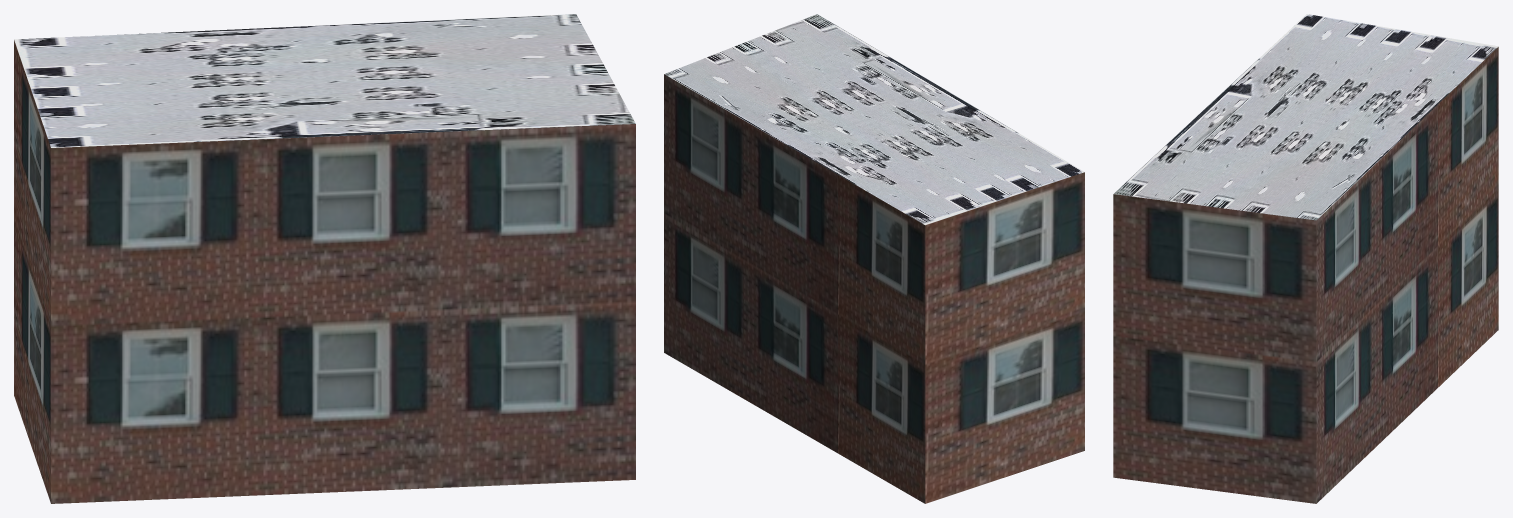
File: ResTex__2562.fbx
3 renders of one model, left to right at view 1: azimuth 30°, elevation 25°; view 2: azimuth 150°, elevation 25°; view 3: azimuth 270°, elevation 25°, orthographic. The views are drawn at different scales.
Visible parts, largest first — view 1: CityEngineMaterial_14_m, CityEngineMaterial_m; view 2: CityEngineMaterial_14_m, CityEngineMaterial_m; view 3: CityEngineMaterial_14_m, CityEngineMaterial_m.
Part boxes in pixels (bbox=[...]): CityEngineMaterial_14_m: bbox=[14, 40, 635, 503]; CityEngineMaterial_m: bbox=[14, 14, 635, 147]; CityEngineMaterial_14_m: bbox=[664, 74, 1084, 503]; CityEngineMaterial_m: bbox=[664, 14, 1084, 225]; CityEngineMaterial_14_m: bbox=[1113, 47, 1498, 503]; CityEngineMaterial_m: bbox=[1114, 14, 1498, 220].
Bounding box in the file's own units: 9.37 × 6 × 7.39.
2 materials, 2 textured.
